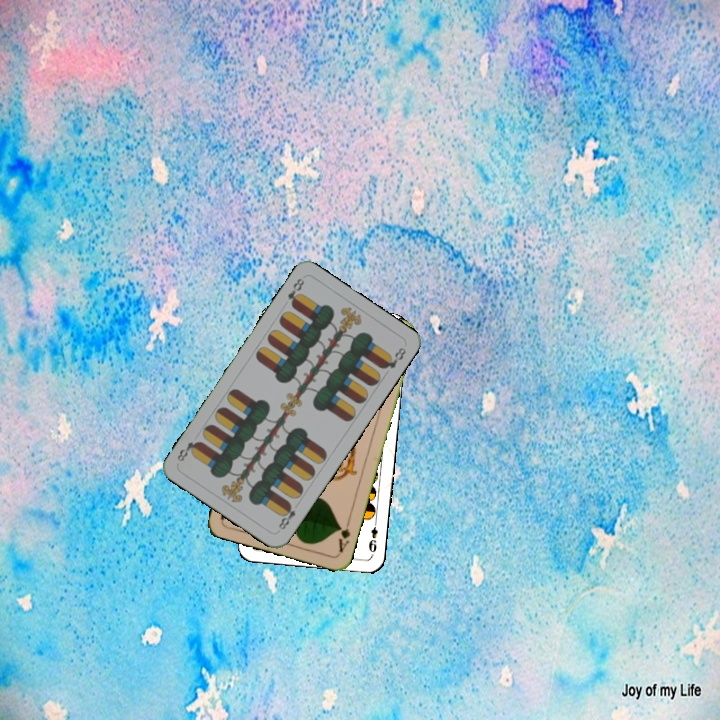E8: (283, 274, 307, 309), (274, 499, 298, 532)
E9: (365, 516, 380, 555)
GA: (334, 515, 353, 555)
